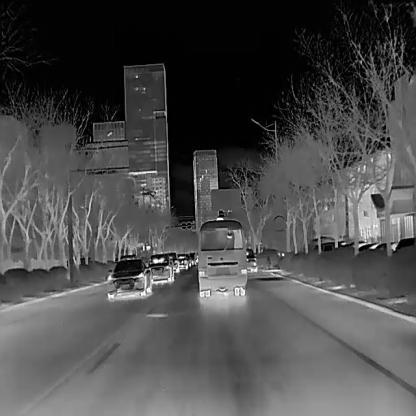car: (196, 214, 248, 295), (105, 257, 151, 297), (149, 252, 172, 282), (246, 246, 256, 272), (169, 251, 178, 274), (177, 253, 188, 270)
